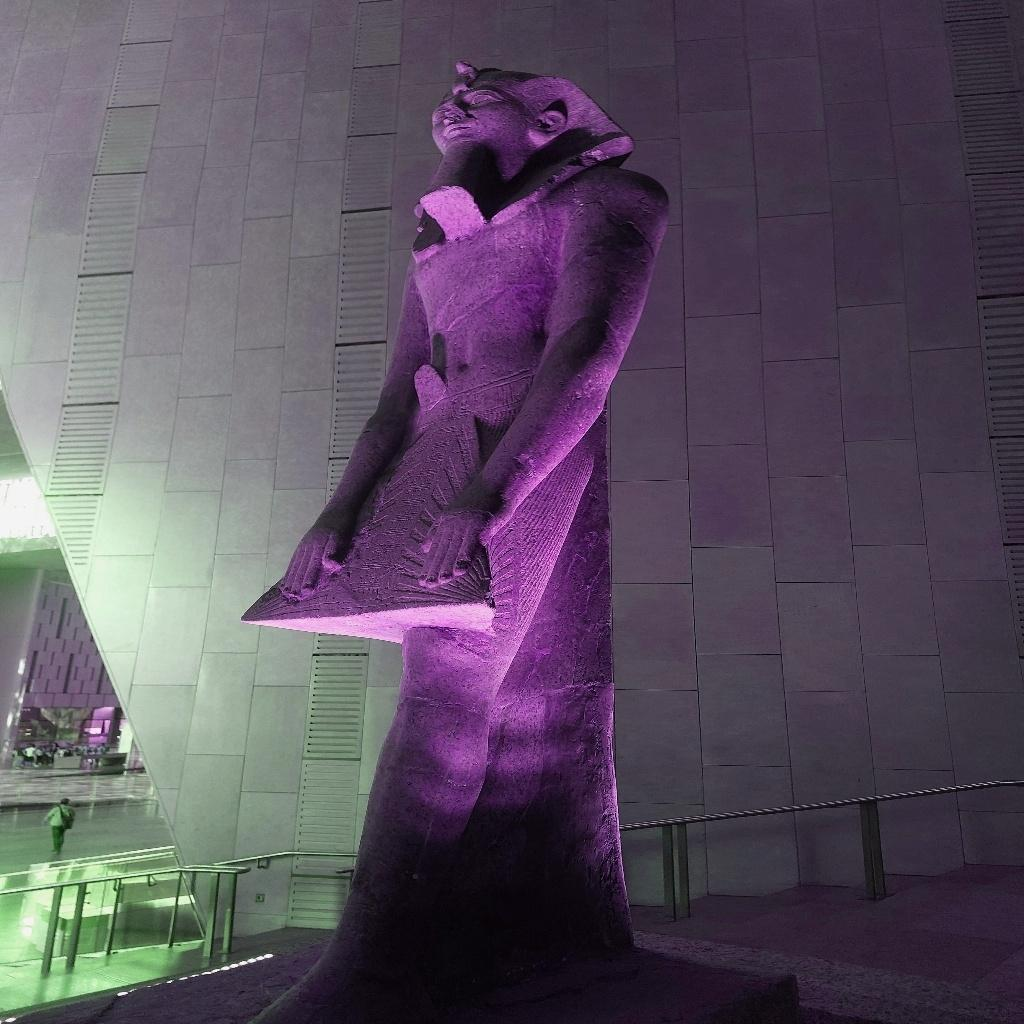Colossal Statue of Queen Hatshepsut: (236, 57, 678, 1018)
